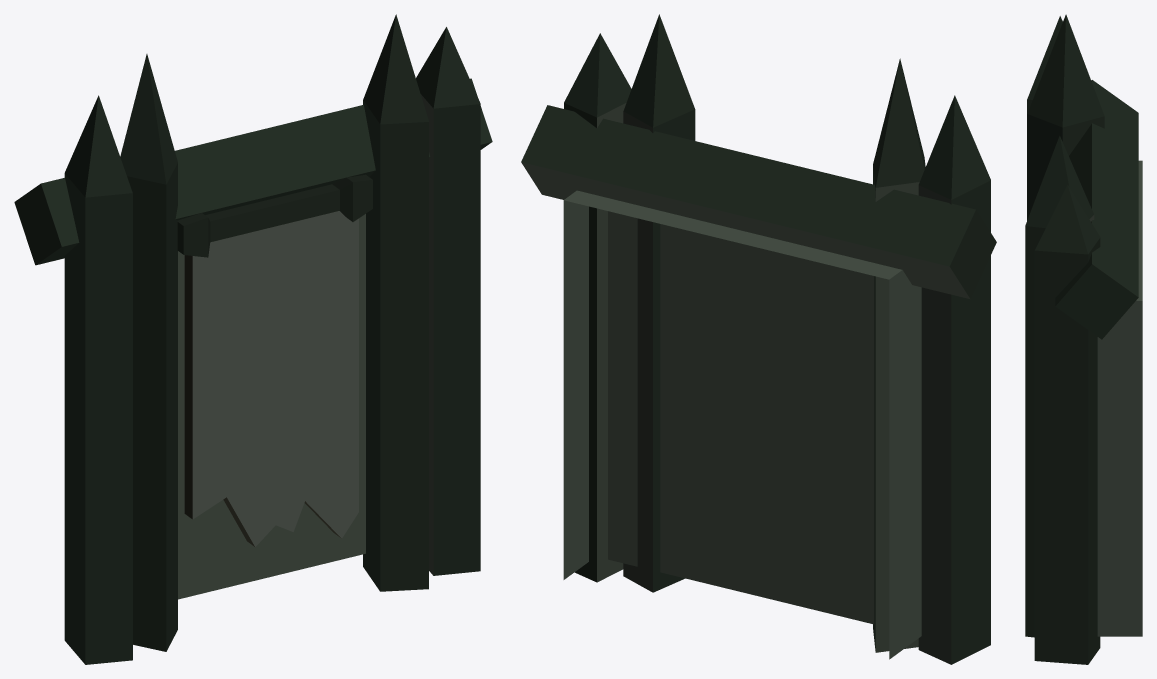
File: SF_Bld_Goblin_Door_01.glb
The picture shows the model from 3 angles, left to right: view 1: azimuth 30°, elevation 25°; view 2: azimuth 150°, elevation 25°; view 3: azimuth 270°, elevation 25°; orthographic projection. The views are drawn at different scales.
Visible parts, largest first — view 1: SF_Bld_Goblin_Door_01; view 2: SF_Bld_Goblin_Door_01; view 3: SF_Bld_Goblin_Door_01.
Part boxes in pixels (x1,y1,x2,y2): SF_Bld_Goblin_Door_01: [14, 14, 492, 664]; SF_Bld_Goblin_Door_01: [521, 14, 996, 664]; SF_Bld_Goblin_Door_01: [1025, 14, 1142, 664].
Bounding box in the file's own units: 0.0392 × 0.0506 × 0.0105.
1 material, 1 textured.
